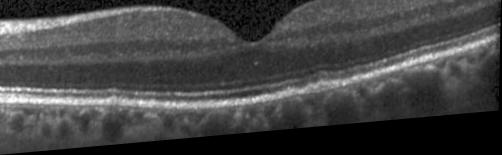retinal_drusen: (305, 91, 316, 99), (317, 90, 328, 96)
